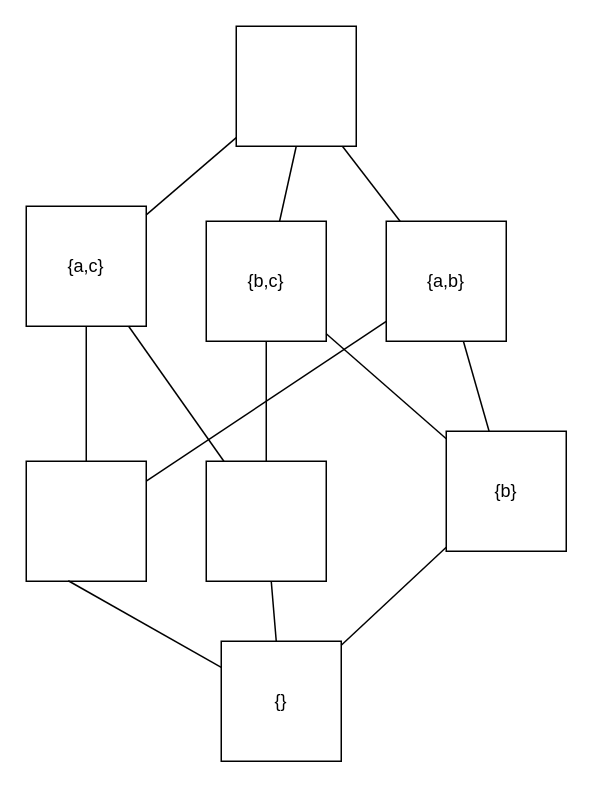
This 593x788 diagram has some shape labels left out. The shapes that lost their labels are listed below. From the top down, each one's centre as x and y in pixels, then its label:
[295,85]: {a,b,c}
[85,520]: {a}
[265,520]: {c}
